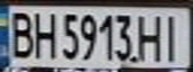1: (97, 11, 118, 62)
3: (112, 11, 139, 62)
5: (57, 9, 81, 61)
9: (78, 11, 100, 62)
B: (3, 8, 36, 60)
H: (136, 11, 166, 63), (30, 8, 57, 60)
I: (157, 11, 187, 62)
